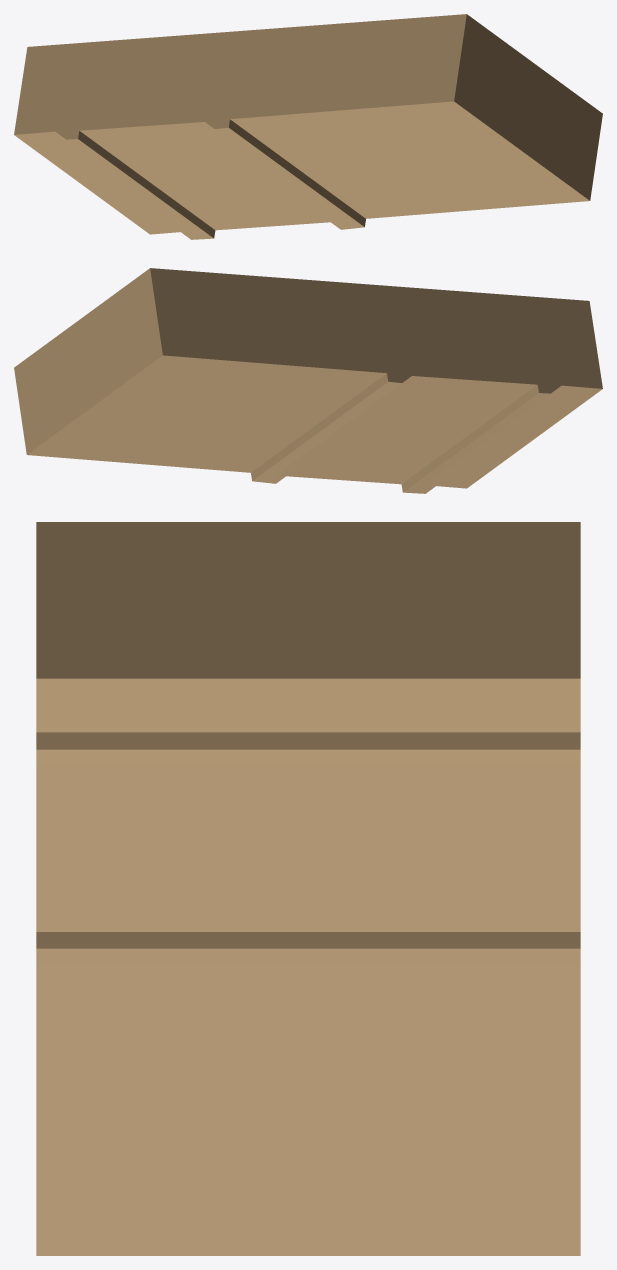
The picture shows the model from 3 angles, top to bottom: view 1: azimuth 30°, elevation 25°; view 2: azimuth 150°, elevation 25°; view 3: azimuth 270°, elevation 25°; orthographic projection. The views are drawn at different scales.
Visible parts, largest first — view 1: 0_3_2_0_2_1_0_0; view 2: 0_3_2_0_2_1_0_0; view 3: 0_3_2_0_2_1_0_0.
Boxes of the visible parts, x1,y1,x2,y2 form: 0_3_2_0_2_1_0_0: [14, 14, 602, 239]; 0_3_2_0_2_1_0_0: [14, 268, 602, 493]; 0_3_2_0_2_1_0_0: [36, 522, 580, 1255].
Size of the model in its own units: 46.1 by 15.43 by 24.
